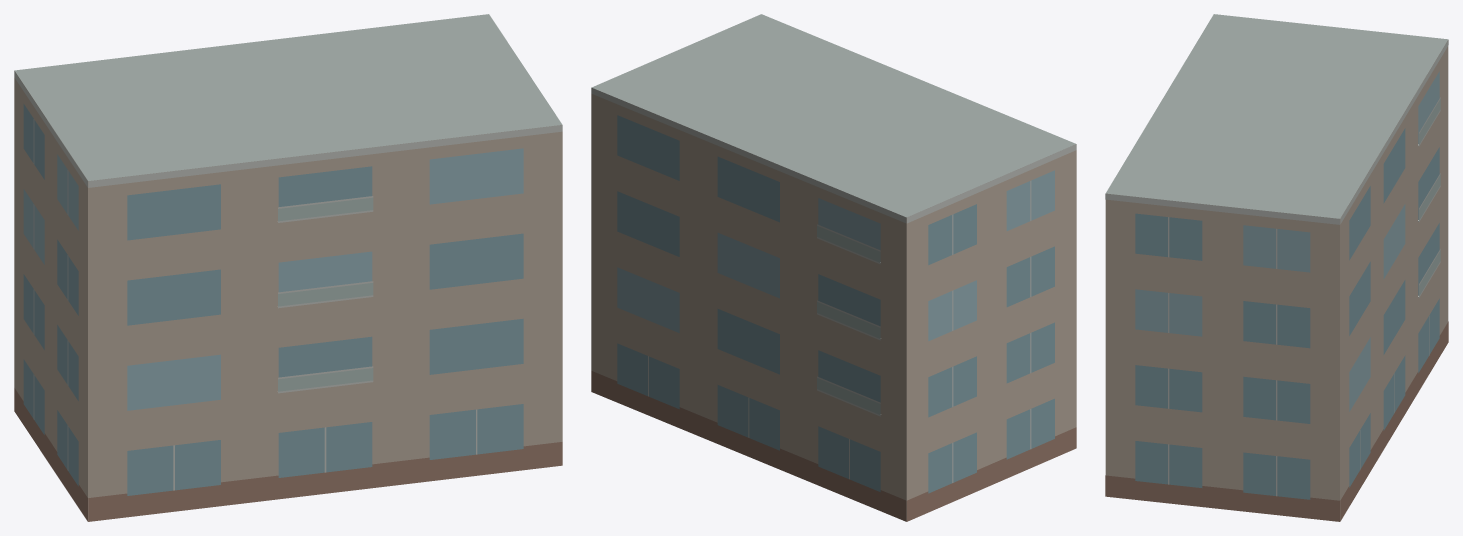
File: residential-e887fb73-e837-42a9-95d1-daa1086eedff.glb
3 renders of one model, left to right at view 1: azimuth 30°, elevation 25°; view 2: azimuth 150°, elevation 25°; view 3: azimuth 270°, elevation 25°, orthographic. The views are drawn at different scales.
Visible parts, largest first — view 1: residential-e887fb73-e837-42a9-95d1-daa1086eedff.tmp; view 2: residential-e887fb73-e837-42a9-95d1-daa1086eedff.tmp; view 3: residential-e887fb73-e837-42a9-95d1-daa1086eedff.tmp.
Boxes of the visible parts, x1=… form: residential-e887fb73-e837-42a9-95d1-daa1086eedff.tmp: x1=14, y1=14, x2=562, y2=521; residential-e887fb73-e837-42a9-95d1-daa1086eedff.tmp: x1=591, y1=14, x2=1076, y2=521; residential-e887fb73-e837-42a9-95d1-daa1086eedff.tmp: x1=1105, y1=14, x2=1448, y2=521.
Bounding box in the file's own units: 17.7 × 12.2 × 12.52.
